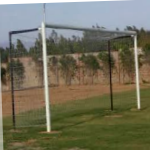goals: (7, 20, 144, 133)
